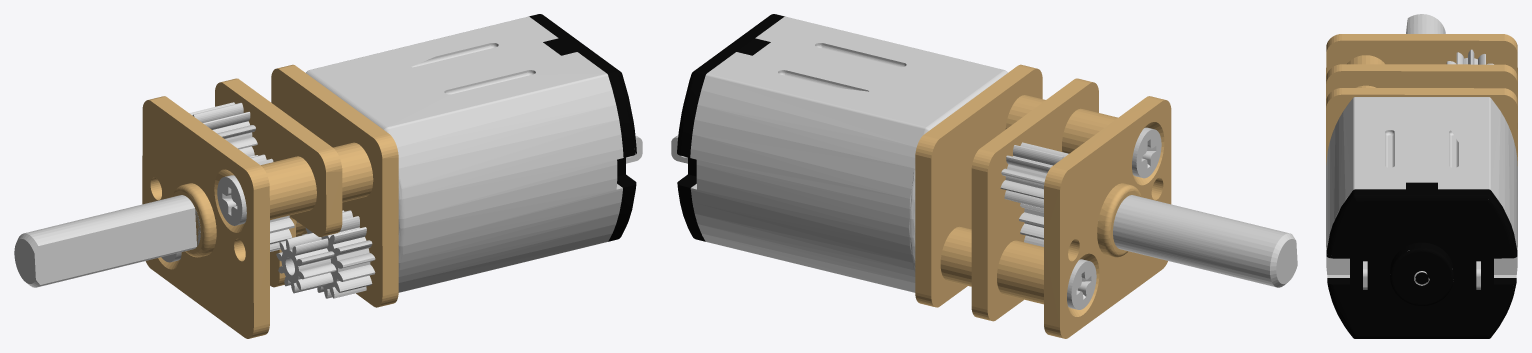
Rendered from 12125_resized.dae.
The picture shows the model from 3 angles, left to right: view 1: azimuth 30°, elevation 25°; view 2: azimuth 150°, elevation 25°; view 3: azimuth 270°, elevation 25°; orthographic projection. The views are drawn at different scales.
Visible parts, largest first — view 1: _2125; view 2: _2125; view 3: _2125.
Part boxes in pixels (x1,y1,x2,y2): _2125: [14, 14, 642, 338]; _2125: [671, 14, 1297, 338]; _2125: [1326, 14, 1517, 338].
Size of the model in its own units: 3.63 by 1.2 by 1.
